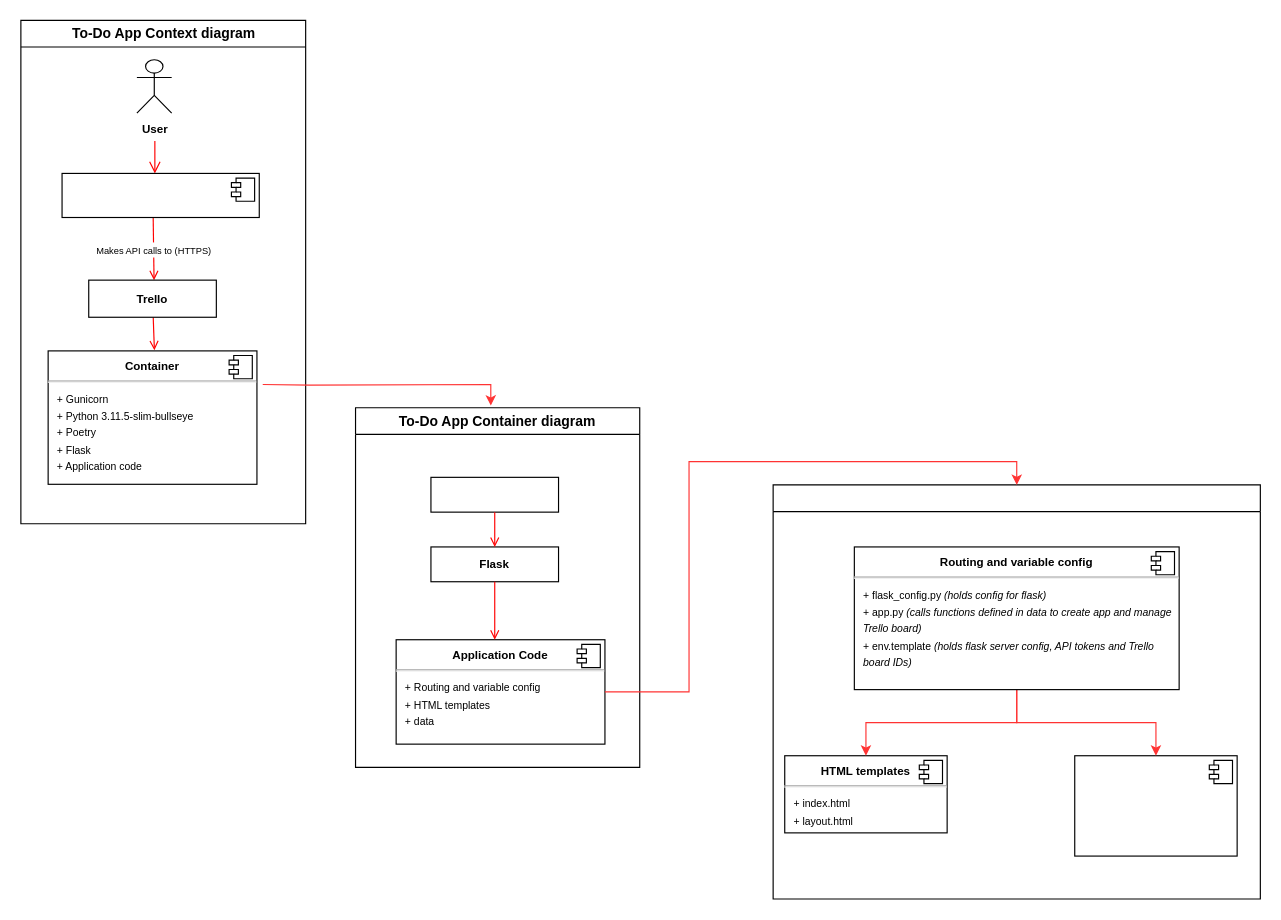
The diagram is 1281 pixels wide and 920 high, and some of its shapes have lost their labels. The box of each missing label's shape, as (x1, y1, x2, y2) in pixels:
data + trello_items.py + session_items.py + view_model.py: (1074, 755, 1237, 856)
Gunicorn: (430, 476, 559, 512)
To-Do App Application code: (772, 484, 1260, 899)
To-Do web Application: (61, 172, 259, 217)
